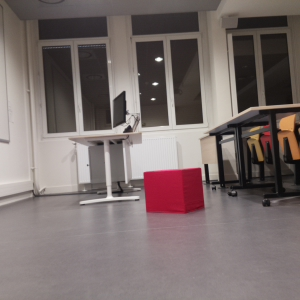medium: (141, 166, 206, 217)
